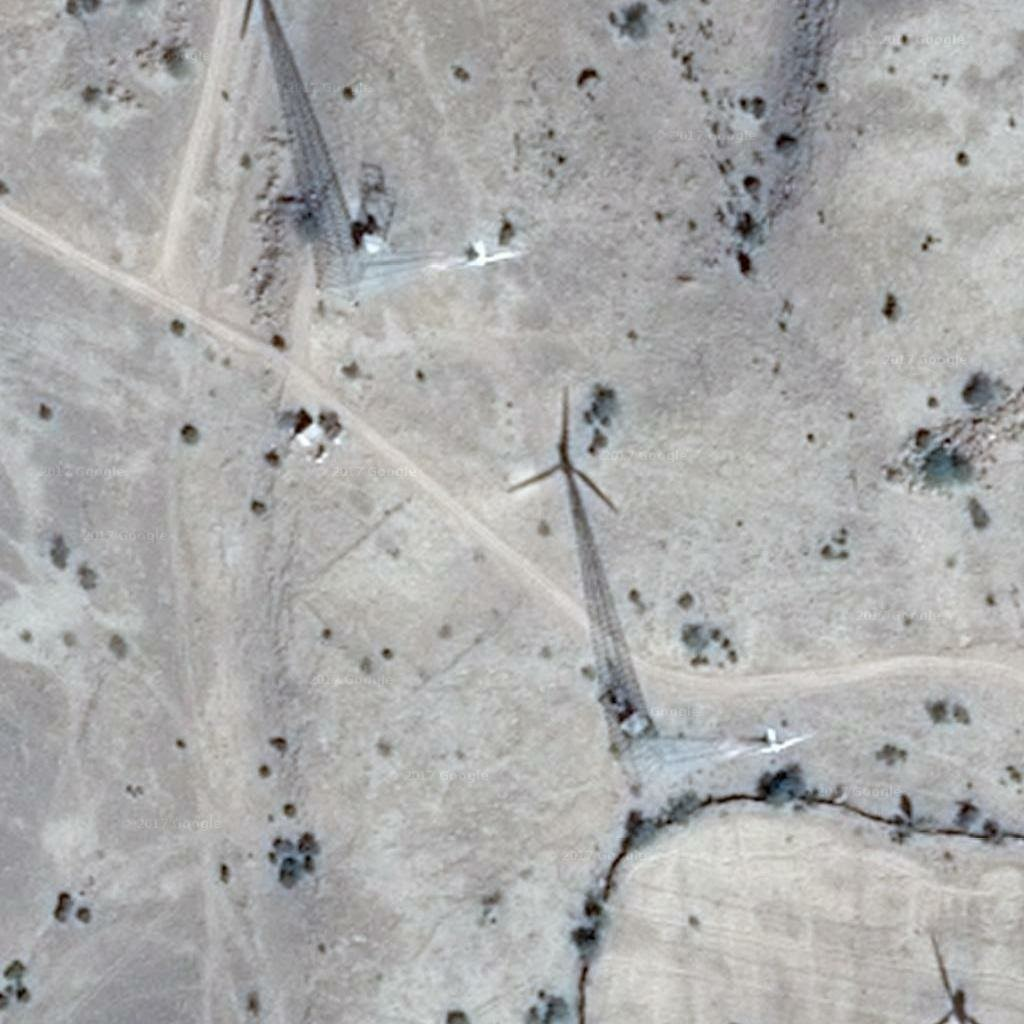Windmill: (502, 395, 648, 704)
